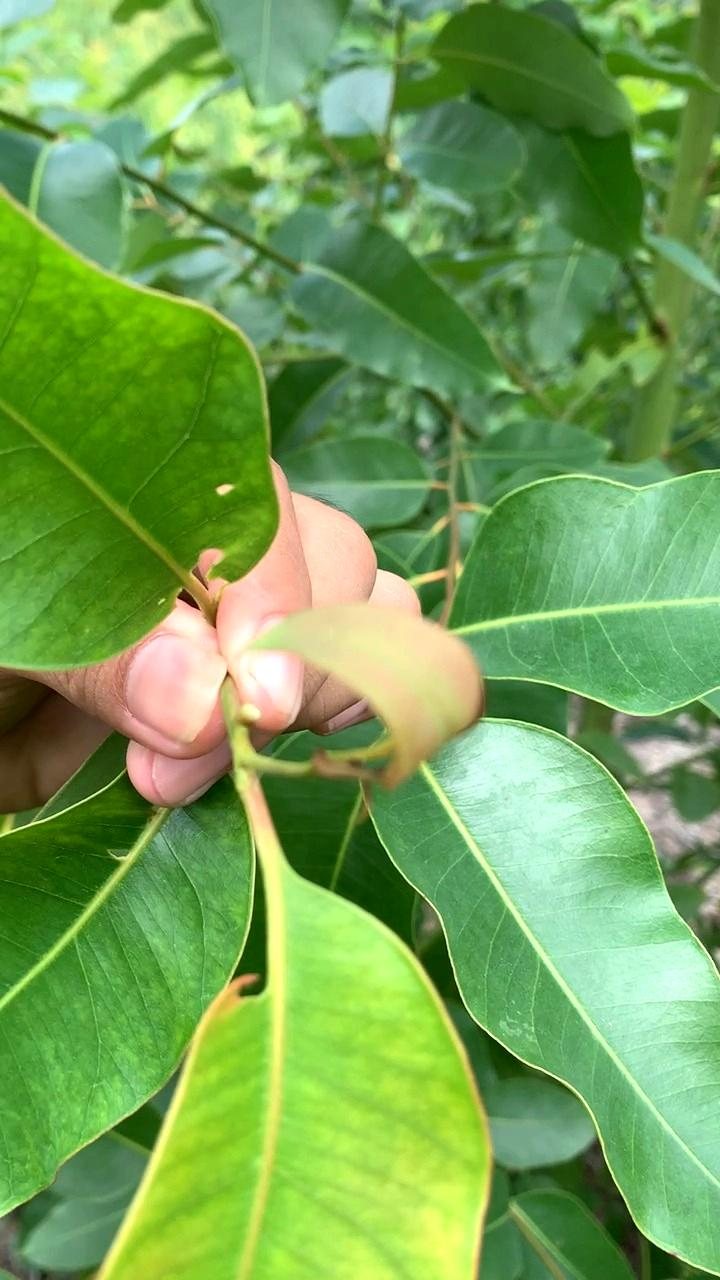Helopeltis-Withered Sprout: (255, 608, 495, 785)
